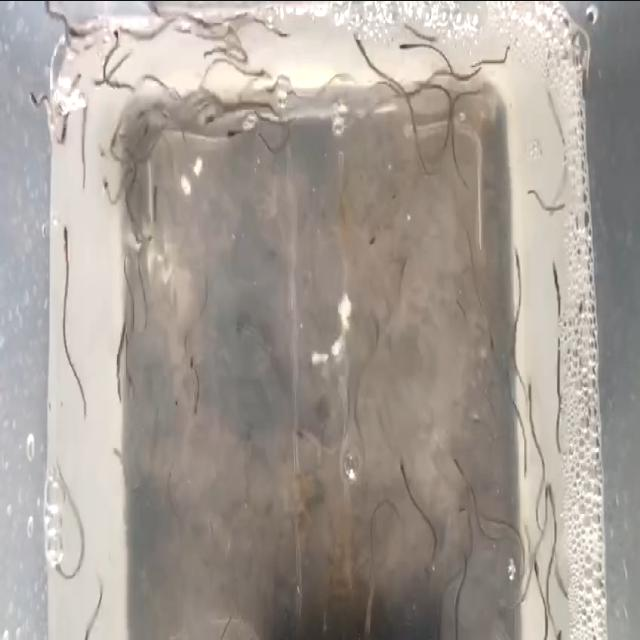inactive_glass_eel: (451, 457, 466, 498), (348, 28, 366, 62), (292, 420, 309, 454), (134, 94, 152, 124), (394, 32, 412, 62), (58, 222, 70, 264), (29, 87, 47, 115), (150, 180, 162, 221), (68, 22, 86, 48), (548, 251, 558, 296), (50, 546, 64, 578), (454, 506, 476, 526), (112, 24, 125, 56), (56, 112, 68, 146), (396, 443, 408, 477), (104, 128, 122, 150), (540, 472, 549, 516), (144, 0, 162, 21), (512, 250, 522, 284), (545, 478, 555, 512), (198, 112, 218, 128), (524, 378, 534, 410), (222, 122, 241, 138), (98, 174, 109, 198), (533, 554, 541, 587), (546, 627, 564, 640), (487, 329, 496, 353)
